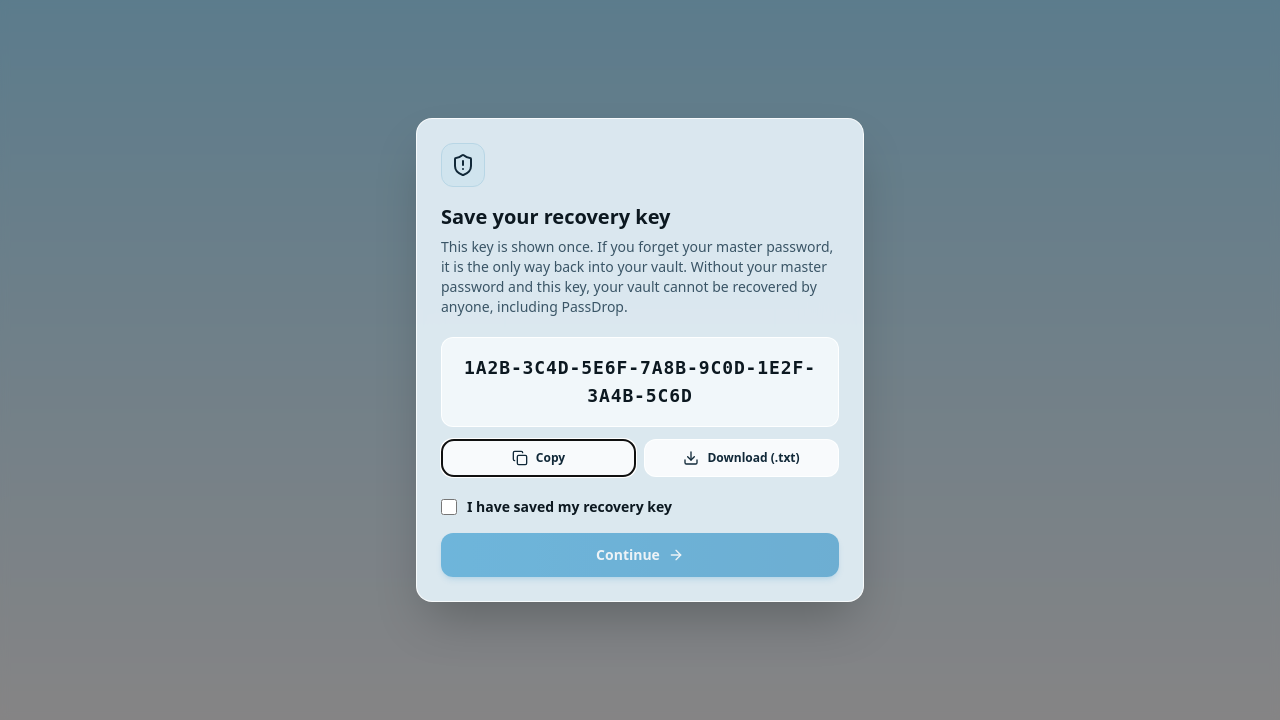
Test case: RecoveryKey › keeps Continue disabled until the box is ticked
Later steps or results of the test are not shown.
Expected: the button "Continue" is disabled, x1=441 y1=533 x2=839 y2=577
What coordinates should you click on to do the following:
click the checkbox labelled "I have saved my recovery key"
I would click on:
 (449, 507)
Its box is x1=441 y1=499 x2=457 y2=515.
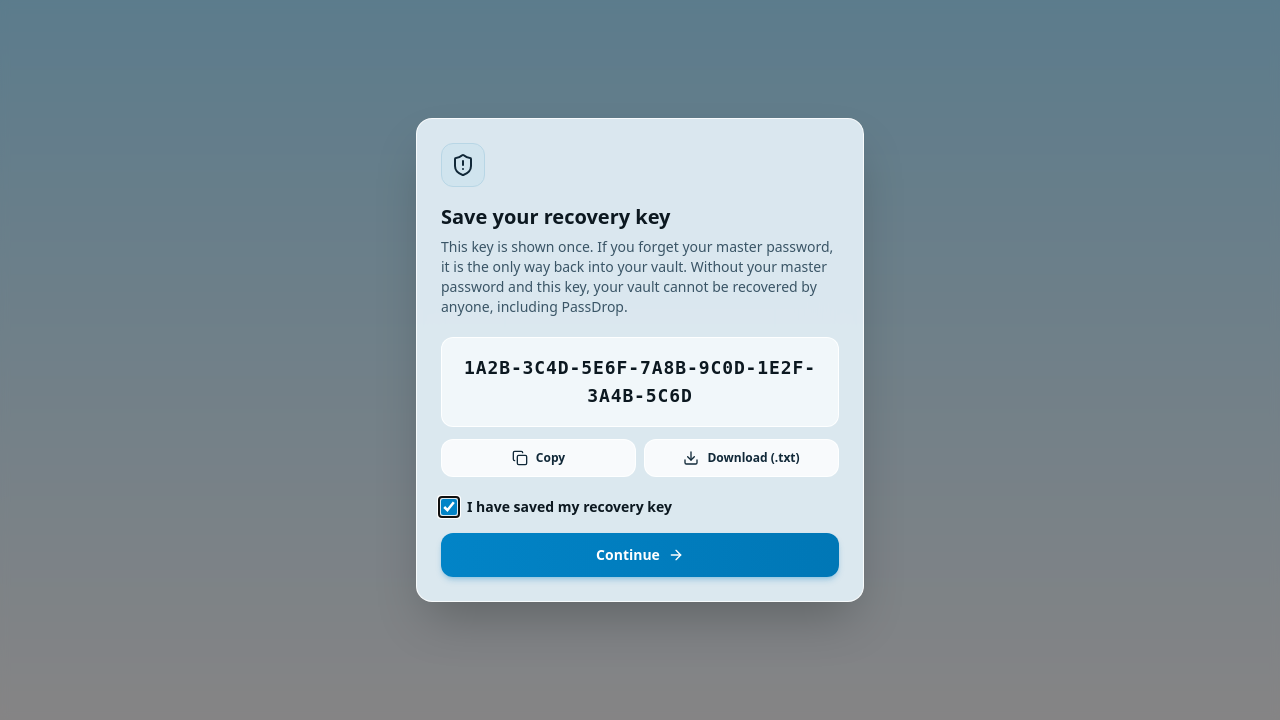
Expected: the button "Continue" is enabled, x1=441 y1=533 x2=839 y2=577
